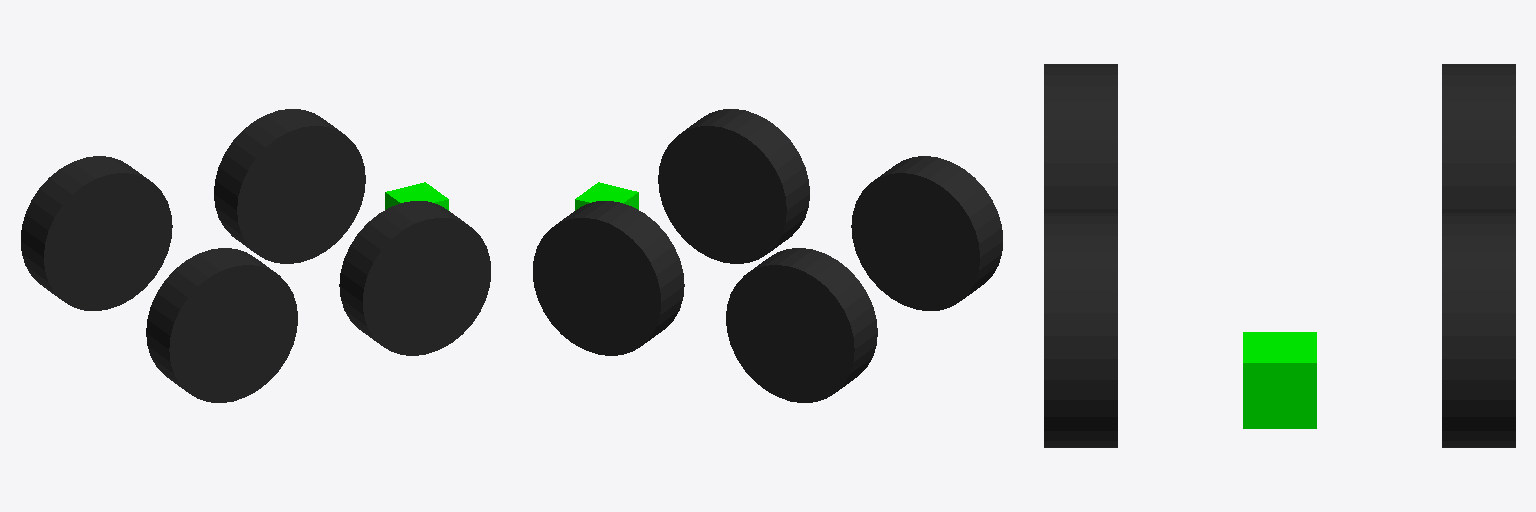
robot.urdf — skidbot:
<?xml version="1.0" ?>
<!-- =================================================================================== -->
<!-- |    This document was autogenerated by xacro from src/robot_gazebo/xacro/skidbot.xacro | -->
<!-- |    EDITING THIS FILE BY HAND IS NOT RECOMMENDED                                 | -->
<!-- =================================================================================== -->
<robot name="skidbot">
  <!-- ****************************************************** skidbot Robot *************************************************************  -->
  <!-- [author]                                                                                                                  -->
  <!-- March 2022                                                                                                                         -->
  <!-- *********************************************************************************************************************************  -->
  <!-- ****************************************************** Parameters ***************************************************************  -->
  <!-- x offset from base center -->
  <!-- ****************************************************** Includes *****************************************************************  -->
  <material name="red">
    <color rgba="1.0 0.0 0.0 1.0"/>
  </material>
  <material name="green">
    <color rgba="0.0 1.0 0.0 1.0"/>
  </material>
  <material name="blue">
    <color rgba="0.0 0.0 1.0 1.0"/>
  </material>
  <material name="black">
    <color rgba="0.3 0.3 0.3 1.0"/>
  </material>
  <material name="white">
    <color rgba="1.0 1.0 1.0 1.0"/>
  </material>
  <material name="grey">
    <color rgba="0.2 0.2 0.2 1.0"/>
  </material>
  <material name="orange">
    <color rgba="1.0 0.4235294117647059 0.0392156862745098 1.0"/>
  </material>
  <material name="brown">
    <color rgba="0.8705882352941177 0.8117647058823529 0.7647058823529411 1.0"/>
  </material>
  <material name="yellow">
    <color rgba="1.0 1.0 0.0 1.0"/>
  </material>
  <!-- ****************************************************** skidbot Robot *************************************************************  -->
  <!-- [author]                                                                                                                  -->
  <!-- March 2022                                                                                                                         -->
  <!-- *********************************************************************************************************************************  -->
  <!-- ****************************************************** Base *********************************************************************  -->
  <gazebo reference="base">
    <material>Gazebo/Orange</material>
  </gazebo>
  <!-- ****************************************************** Front Left Wheel *********************************************************  -->
  <gazebo reference="front_left_wheel">
    <material>Gazebo/Gray</material>
  </gazebo>
  <!-- ****************************************************** Back Left Wheel **********************************************************  -->
  <gazebo reference="back_left_wheel">
    <material>Gazebo/Gray</material>
  </gazebo>
  <!-- ****************************************************** Front Right Wheel ********************************************************  -->
  <gazebo reference="front_right_wheel">
    <material>Gazebo/Gray</material>
  </gazebo>
  <!-- ****************************************************** Back Right Wheel *********************************************************  -->
  <gazebo reference="back_right_wheel">
    <material>Gazebo/Gray</material>
  </gazebo>
  <!-- ******************************************************  Joint States Pub ********************************************************  -->
  <gazebo>
    <plugin filename="libgazebo_ros_joint_state_publisher.so" name="joint_states_pub">
      <ros>
        <namespace>skidbot</namespace>
      </ros>
      <joint_name>front_left_wheel_joint</joint_name>
      <joint_name>back_left_wheel_joint</joint_name>
      <joint_name>front_right_wheel_joint</joint_name>
      <joint_name>back_right_wheel_joint</joint_name>
      <update_rate>100.0</update_rate>
    </plugin>
  </gazebo>
  <!-- ******************************************************  Skid Steer Drive Controller *********************************************  -->
  <gazebo>
    <plugin filename="libgazebo_ros_diff_drive.so" name="skid_drive">
      <ros>
        <namespace>skidbot</namespace>
        <argument>--remap cmd_vel:=cme_vel</argument>
        <argument>--remap odom:=odom</argument>
      </ros>
      <num_wheel_pairs>2</num_wheel_pairs>
      <!-- 1st Wheels Set -->
      <left_joint>front_left_wheel_joint</left_joint>
      <right_joint>front_right_wheel_joint</right_joint>
      <wheel_separation>0.27</wheel_separation>
      <wheel_diameter>0.16</wheel_diameter>
      <!-- 2nd Wheels Set -->
      <left_joint>back_left_wheel_joint</left_joint>
      <right_joint>back_right_wheel_joint</right_joint>
      <wheel_separation>0.27</wheel_separation>
      <wheel_diameter>0.16</wheel_diameter>
      <max_wheel_torque>20</max_wheel_torque>
      <max_wheel_acceleration>1.0</max_wheel_acceleration>
      <update_rate>100.0</update_rate>
      <robot_base_frame>footprint</robot_base_frame>
      <odometry_frame>odom</odometry_frame>
      <publish_odom>true</publish_odom>
      <publish_odom_tf>true</publish_odom_tf>
      <publish_wheel_tf>true</publish_wheel_tf>
    </plugin>
  </gazebo>
  <!-- ******************************************************  Camera ******************************************************************  -->
  <gazebo reference="camera">
    <sensor name="camera_sensor" type="camera">
      <plugin filename="libgazebo_ros_camera.so" name="camera">
        <ros>
          <namespace>skidbot</namespace>
          <argument>--remap camera/image_raw:=camera/image_raw</argument>
          <argument>--remap camera/camera_info:=camera/camera_info</argument>
        </ros>
        <camera_name>camera</camera_name>
        <frame_name>camera</frame_name>
        <hack_baseline>0.07</hack_baseline>
      </plugin>
      <update_rate>30.0</update_rate>
      <always_on>1</always_on>
      <camera name="camera">
        <horizontal_fov>1.3962634</horizontal_fov>
        <image>
          <width>800</width>
          <height>800</height>
          <format>R8G8B8</format>
        </image>
        <clip>
          <near>0.02</near>
          <far>300</far>
        </clip>
        <distortion>
          <k1>0.0</k1>
          <k2>0.0</k2>
          <k3>0.0</k3>
          <p1>0.0</p1>
          <p2>0.0</p2>
          <center>0.5 0.5</center>
        </distortion>
      </camera>
    </sensor>
    <material>Gazebo/Green</material>
  </gazebo>
  <!-- ****************************************************** hokuyo  ******************************************************************  -->
  <gazebo reference="hokuyo">
    <sensor name="head_hokuyo_sensor" type="ray">
      <plugin filename="libgazebo_ros_ray_sensor.so" name="hokuyo">
        <ros>
          <namespace>skidbot</namespace>
          <argument>--remap out:=scan</argument>
        </ros>
        <output_type>sensor_msgs/LaserScan</output_type>
      </plugin>
      <update_rate>30</update_rate>
      <pose>0 0 0 0 0 0</pose>
      <visualize>false</visualize>
      <ray>
        <scan>
          <horizontal>
            <samples>720</samples>
            <resolution>1</resolution>
            <min_angle>-1.5707963267948966</min_angle>
            <max_angle> 1.5707963267948966</max_angle>
          </horizontal>
        </scan>
        <range>
          <min>0.10</min>
          <max>30.0</max>
          <resolution>0.01</resolution>
        </range>
        <!-- Noise parameters based on published spec for Hokuyo laser achieving "+-30mm" accuracy at range < 10m.  A mean of 0.0m and stddev   -->
        <!-- of 0.01m will put 99.7% of samples within 0.03m of the true reading.                                                               -->
        <noise>
          <type>gaussian</type>
          <mean>0.0</mean>
          <stddev>0.01</stddev>
        </noise>
      </ray>
    </sensor>
    <!-- <material>Gazebo/Red</material> -->
  </gazebo>
  <!-- ****************************************************** end **********************************************************************  -->
  <!-- Gazebo                                     -->
  <!-- ****************************************************** Base Footprint ***********************************************************  -->
  <link name="footprint"/>
  <!-- ****************************************************** Footprint Joint **********************************************************  -->
  <joint name="footprint_joint" type="fixed">
    <origin rpy="0 0 0" xyz="0 0 0"/>
    <parent link="footprint"/>
    <child link="base"/>
  </joint>
  <!-- ****************************************************** Base Link ****************************************************************  -->
  <link name="base">
    <pose>0 0 0 0 0 0</pose>
    <inertial>
      <mass value="15.0"/>
      <origin rpy=" 0 0 0" xyz="0 0 0"/>
      <inertia ixx="0.1" ixy="0" ixz="0" iyy="0.1" iyz="0" izz="0.1"/>
    </inertial>
    <collision name="collision">
      <origin rpy=" 0 0 0" xyz="0 0 0"/>
      <geometry>
        <mesh filename="package://robot_gazebo/meshes/skidbot/base.stl" scale="1 1 1"/>
        <!--  <box size="${base_length} ${base_width} ${base_height}"/> -->
      </geometry>
    </collision>
    <visual name="base_visual">
      <origin rpy=" 0 0 0" xyz="0 0 0"/>
      <geometry>
        <mesh filename="package://robot_gazebo/meshes/skidbot/base.stl" scale="1 1 1"/>
        <!--  <box size="${base_length} ${base_width} ${base_height}"/> -->
      </geometry>
      <material name="blue"/>
    </visual>
  </link>
  <!-- ****************************************************** Wheels Macro *************************************************************  -->
  <!-- ****************************************************** Expand Wheels Macro ******************************************************  -->
  <!-- ****************************************************** Wheel Link ***************************************************************  -->
  <link name="front_right_wheel">
    <inertial>
      <mass value="15.0"/>
      <origin rpy=" 0 1.5707963267948966 1.5707963267948966" xyz="0 0 0"/>
      <inertia ixx="0.1" ixy="0" ixz="0" iyy="0.1" iyz="0" izz="0.1"/>
    </inertial>
    <visual>
      <origin rpy=" 0 1.5707963267948966 1.5707963267948966" xyz="0 0 0"/>
      <geometry>
        <cylinder length="0.05" radius="0.08"/>
      </geometry>
      <material name="grey"/>
    </visual>
    <collision>
      <origin rpy=" 0 1.5707963267948966 1.5707963267948966" xyz="0 0 0"/>
      <geometry>
        <cylinder length="0.05" radius="0.08"/>
      </geometry>
    </collision>
  </link>
  <!-- ****************************************************** Wheel Joint **************************************************************  -->
  <joint name="front_right_wheel_joint" type="continuous">
    <origin rpy="0 0 0" xyz="0.12 -0.135 0"/>
    <child link="front_right_wheel"/>
    <parent link="base"/>
    <axis rpy="0 0 0" xyz="0 1 0"/>
    <limit effort="10000" velocity="1000"/>
    <dynamics damping="1.0" friction="1.0"/>
  </joint>
  <!-- ****************************************************** End of Macro *************************************************************  -->
  <!-- ****************************************************** Wheel Link ***************************************************************  -->
  <link name="front_left_wheel">
    <inertial>
      <mass value="15.0"/>
      <origin rpy=" 0 1.5707963267948966 1.5707963267948966" xyz="0 0 0"/>
      <inertia ixx="0.1" ixy="0" ixz="0" iyy="0.1" iyz="0" izz="0.1"/>
    </inertial>
    <visual>
      <origin rpy=" 0 1.5707963267948966 1.5707963267948966" xyz="0 0 0"/>
      <geometry>
        <cylinder length="0.05" radius="0.08"/>
      </geometry>
      <material name="grey"/>
    </visual>
    <collision>
      <origin rpy=" 0 1.5707963267948966 1.5707963267948966" xyz="0 0 0"/>
      <geometry>
        <cylinder length="0.05" radius="0.08"/>
      </geometry>
    </collision>
  </link>
  <!-- ****************************************************** Wheel Joint **************************************************************  -->
  <joint name="front_left_wheel_joint" type="continuous">
    <origin rpy="0 0 0" xyz="0.12 0.135 0"/>
    <child link="front_left_wheel"/>
    <parent link="base"/>
    <axis rpy="0 0 0" xyz="0 1 0"/>
    <limit effort="10000" velocity="1000"/>
    <dynamics damping="1.0" friction="1.0"/>
  </joint>
  <!-- ****************************************************** End of Macro *************************************************************  -->
  <!-- ****************************************************** Wheel Link ***************************************************************  -->
  <link name="back_right_wheel">
    <inertial>
      <mass value="15.0"/>
      <origin rpy=" 0 1.5707963267948966 1.5707963267948966" xyz="0 0 0"/>
      <inertia ixx="0.1" ixy="0" ixz="0" iyy="0.1" iyz="0" izz="0.1"/>
    </inertial>
    <visual>
      <origin rpy=" 0 1.5707963267948966 1.5707963267948966" xyz="0 0 0"/>
      <geometry>
        <cylinder length="0.05" radius="0.08"/>
      </geometry>
      <material name="grey"/>
    </visual>
    <collision>
      <origin rpy=" 0 1.5707963267948966 1.5707963267948966" xyz="0 0 0"/>
      <geometry>
        <cylinder length="0.05" radius="0.08"/>
      </geometry>
    </collision>
  </link>
  <!-- ****************************************************** Wheel Joint **************************************************************  -->
  <joint name="back_right_wheel_joint" type="continuous">
    <origin rpy="0 0 0" xyz="-0.12 -0.135 0"/>
    <child link="back_right_wheel"/>
    <parent link="base"/>
    <axis rpy="0 0 0" xyz="0 1 0"/>
    <limit effort="10000" velocity="1000"/>
    <dynamics damping="1.0" friction="1.0"/>
  </joint>
  <!-- ****************************************************** End of Macro *************************************************************  -->
  <!-- ****************************************************** Wheel Link ***************************************************************  -->
  <link name="back_left_wheel">
    <inertial>
      <mass value="15.0"/>
      <origin rpy=" 0 1.5707963267948966 1.5707963267948966" xyz="0 0 0"/>
      <inertia ixx="0.1" ixy="0" ixz="0" iyy="0.1" iyz="0" izz="0.1"/>
    </inertial>
    <visual>
      <origin rpy=" 0 1.5707963267948966 1.5707963267948966" xyz="0 0 0"/>
      <geometry>
        <cylinder length="0.05" radius="0.08"/>
      </geometry>
      <material name="grey"/>
    </visual>
    <collision>
      <origin rpy=" 0 1.5707963267948966 1.5707963267948966" xyz="0 0 0"/>
      <geometry>
        <cylinder length="0.05" radius="0.08"/>
      </geometry>
    </collision>
  </link>
  <!-- ****************************************************** Wheel Joint **************************************************************  -->
  <joint name="back_left_wheel_joint" type="continuous">
    <origin rpy="0 0 0" xyz="-0.12 0.135 0"/>
    <child link="back_left_wheel"/>
    <parent link="base"/>
    <axis rpy="0 0 0" xyz="0 1 0"/>
    <limit effort="10000" velocity="1000"/>
    <dynamics damping="1.0" friction="1.0"/>
  </joint>
  <!-- ****************************************************** End of Macro *************************************************************  -->
  <!-- ****************************************************** Camera Link **************************************************************  -->
  <link name="camera">
    <inertial>
      <mass value="0.1"/>
      <origin rpy=" 0 0 0" xyz="0 0 0"/>
      <inertia ixx="1e-6" ixy="0" ixz="0" iyy="1e-6" iyz="0" izz="1e-6"/>
    </inertial>
    <visual name="camera_visual">
      <origin rpy="0 0 0" xyz="0 0 0"/>
      <geometry>
        <box size="0.05 0.05 0.05"/>
      </geometry>
      <material name="green"/>
    </visual>
    <collision name="camera_colision">
      <origin rpy="0 0 0" xyz="0 0 0"/>
      <geometry>
        <box size="0.05 0.05 0.05"/>
      </geometry>
    </collision>
  </link>
  <!-- ****************************************************** Camera Joint *************************************************************  -->
  <joint name="camera_joint" type="fixed">
    <origin rpy="0 0 0" xyz="0.2 0 0"/>
    <child link="camera"/>
    <parent link="base"/>
    <axis rpy="0 0 0" xyz="0 1 0"/>
  </joint>
  <!-- ****************************************************** Hokuyo Link **************************************************************  -->
  <link name="hokuyo">
    <inertial>
      <mass value="1e-05"/>
      <origin rpy=" 0 0 0" xyz="0 0 0"/>
      <inertia ixx="1e-6" ixy="0" ixz="0" iyy="1e-6" iyz="0" izz="1e-6"/>
    </inertial>
    <visual name="hokuyo_visual">
      <origin rpy="0 0 0" xyz="0 0 0"/>
      <geometry>
        <mesh filename="package://robot_gazebo/meshes/skidbot/hokuyo.dae"/>
        <!--  <box size="${hokuyo_length} ${hokuyo_width} ${hokuyo_height}"/> -->
      </geometry>
      <!-- <material name="red"/> -->
    </visual>
    <collision name="hokuyo_colision">
      <origin rpy="0 0 0" xyz="0 0 0"/>
      <geometry>
        <mesh filename="package://robot_gazebo/meshes/skidbot/hokuyo.dae"/>
        <!--  <box size="${hokuyo_length} ${hokuyo_width} ${hokuyo_height}"/> -->
      </geometry>
    </collision>
  </link>
  <!-- ****************************************************** Hokuyo Joint *************************************************************  -->
  <joint name="hokuyo_joint" type="fixed">
    <origin rpy="0 0 0" xyz="0.11 0 0.0853"/>
    <child link="hokuyo"/>
    <parent link="base"/>
    <axis rpy="0 0 0" xyz="0 1 0"/>
  </joint>
  <!-- ****************************************************** end **********************************************************************  -->
</robot>

--- Render facts (derived) ---
Views: 3 orthographic renders of the robot side by side, from view 1: azimuth 30°, elevation 25°; view 2: azimuth 150°, elevation 25°; view 3: azimuth 270°, elevation 25°.
Robot: skidbot — 8 links, 7 joints (4 continuous, 3 fixed); root link footprint; default pose: every joint at zero.
Visible links, largest first — view 1: front_right_wheel, back_left_wheel, front_left_wheel, back_right_wheel, camera; view 2: front_left_wheel, back_right_wheel, front_right_wheel, back_left_wheel, camera; view 3: front_right_wheel, front_left_wheel, back_right_wheel, back_left_wheel, camera.
Link boxes in pixels (x1,y1,x2,y2): front_right_wheel: (339,201,490,355); back_left_wheel: (21,156,172,310); front_left_wheel: (214,109,365,263); back_right_wheel: (146,248,297,402); camera: (385,182,448,210); front_left_wheel: (533,201,684,355); back_right_wheel: (851,156,1002,310); front_right_wheel: (658,109,809,263); back_left_wheel: (726,248,877,402); camera: (575,182,638,210); front_right_wheel: (1044,213,1117,447); front_left_wheel: (1442,213,1515,447); back_right_wheel: (1044,64,1117,212); back_left_wheel: (1442,64,1515,212); camera: (1243,332,1316,428).
Bounding box of the posed robot: 0.425 × 0.32 × 0.16 m (x, y, z).
Meshes: 2 distinct files referenced, 0 mesh visuals loaded (none loaded); not drawn: 2 (reference not matched to a file when rendering).
